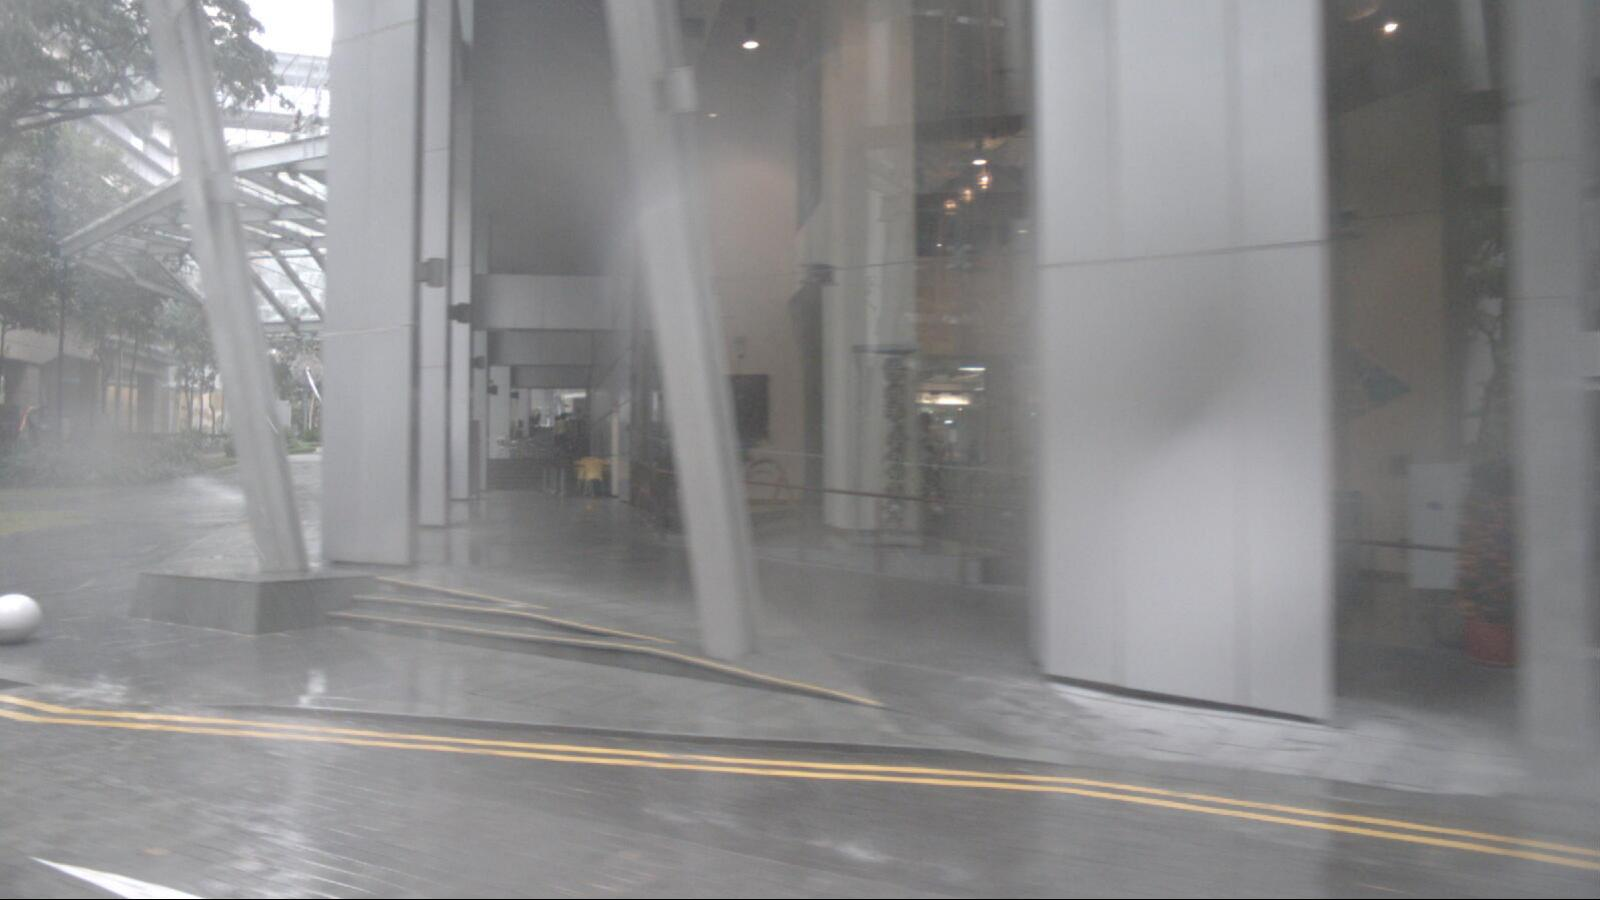human.pedestrian.adult-pedestrian.moving: (17, 404, 51, 459)
human.pedestrian.adult-pedestrian.standing: (914, 411, 947, 511), (552, 413, 570, 451)
